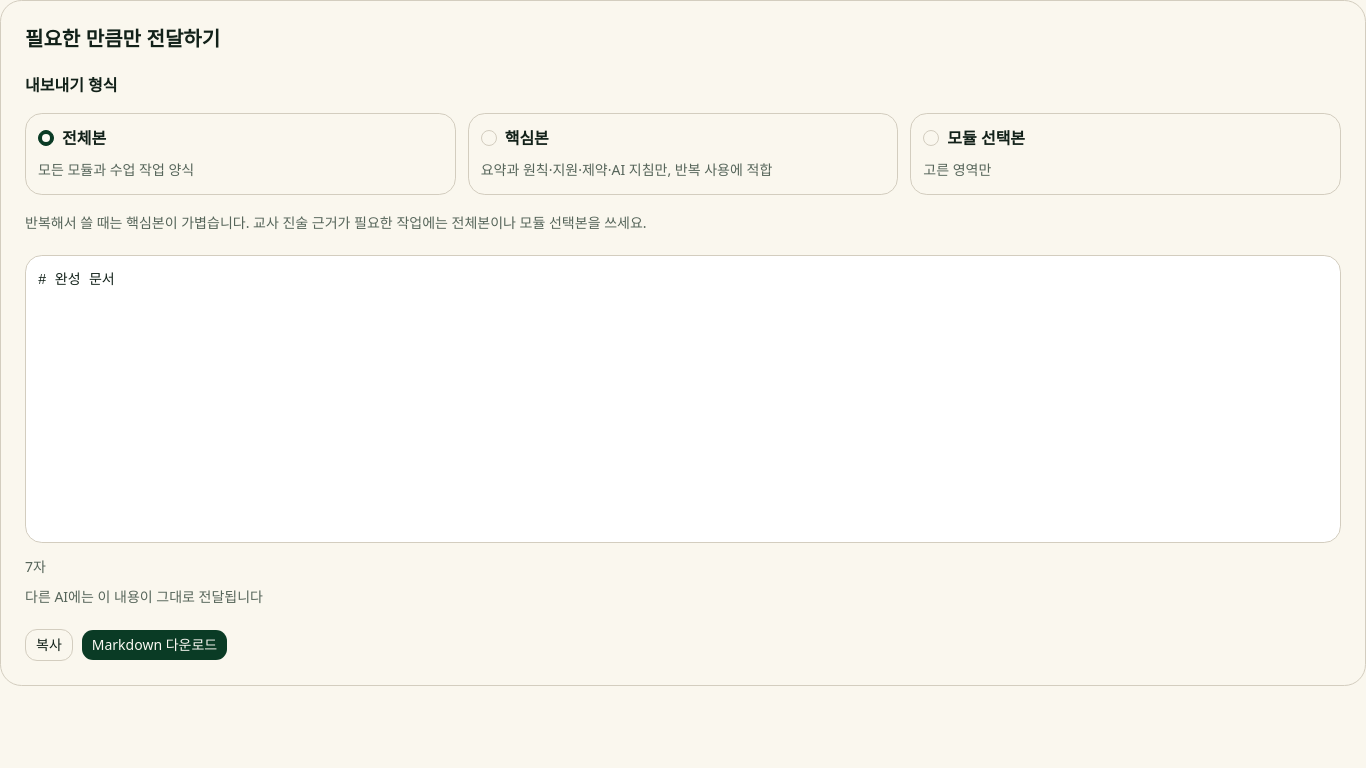
Scenario: skips failed panel exports and isolates record failure from success messages
This screenshot has width=1366, height=768.
What coordinates should you click on to do the following:
click the button "복사"
I would click on:
 (49, 645)
Its box is [25,629,73,661].
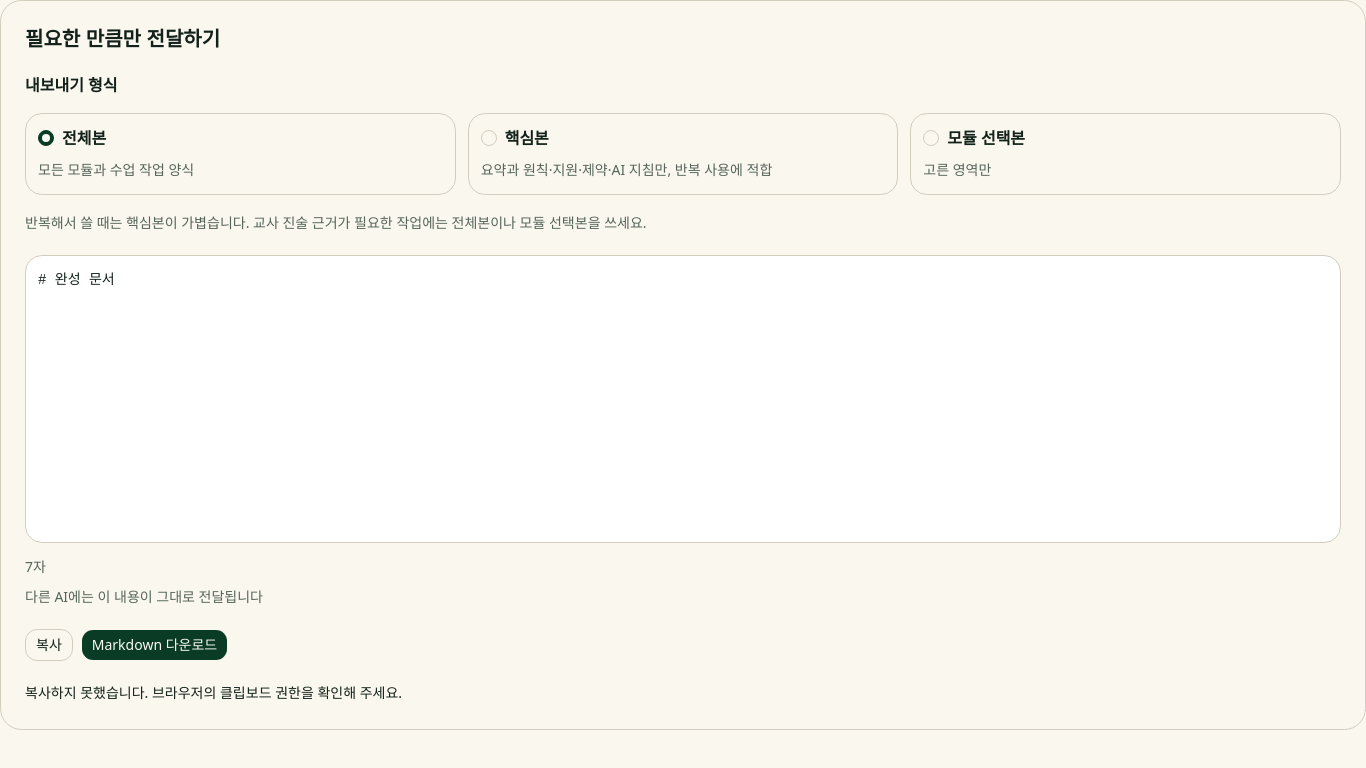
Expected: the text "복사하지 못했습니다. 브라우저의 클립보드 권한을 확인해 주세요." is shown, [25,683,402,702]
What coordinates should you click on to do the following:
click the button "Markdown 다운로드"
I would click on:
 (154, 645)
Its box is [81,629,228,661].
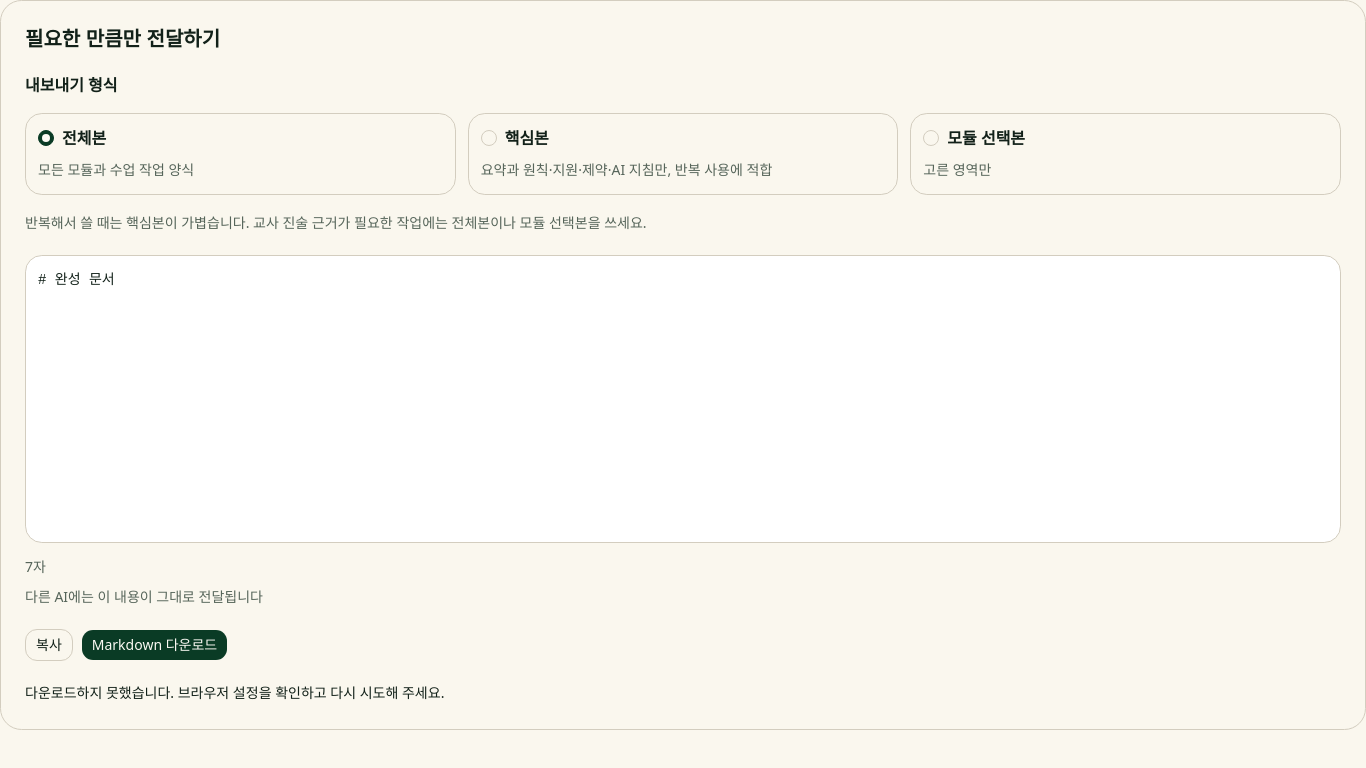
Expected: the message shows "다운로드하지 못했습니다", [25,683,444,702]
What coordinates should you click on to do the following:
click the button "복사"
I would click on:
 (49, 645)
Its box is [25,629,73,661].
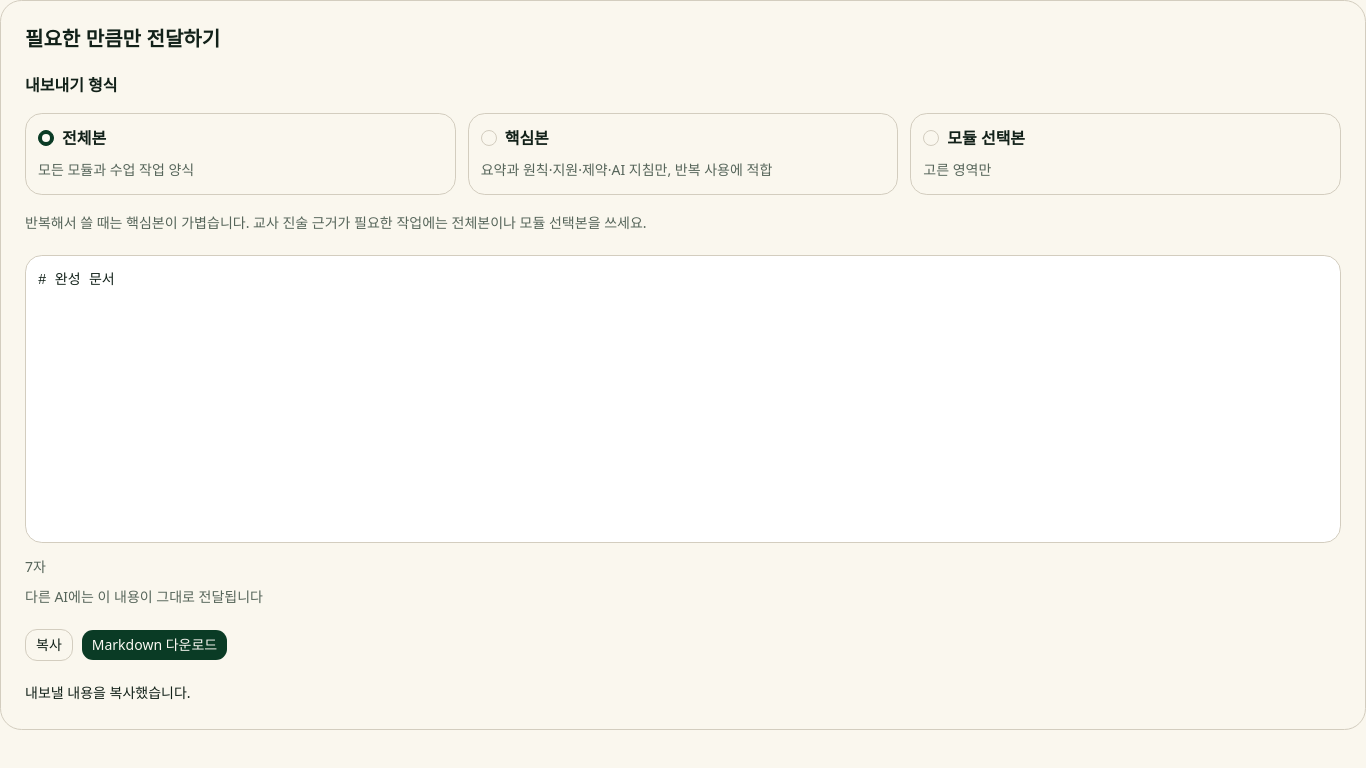
Expected: the text "내보낼 내용을 복사했습니다." is shown, [25,683,191,702]
What coordinates should you click on to do the following:
click the button "Markdown 다운로드"
I would click on:
 (154, 645)
Its box is [81,629,228,661].
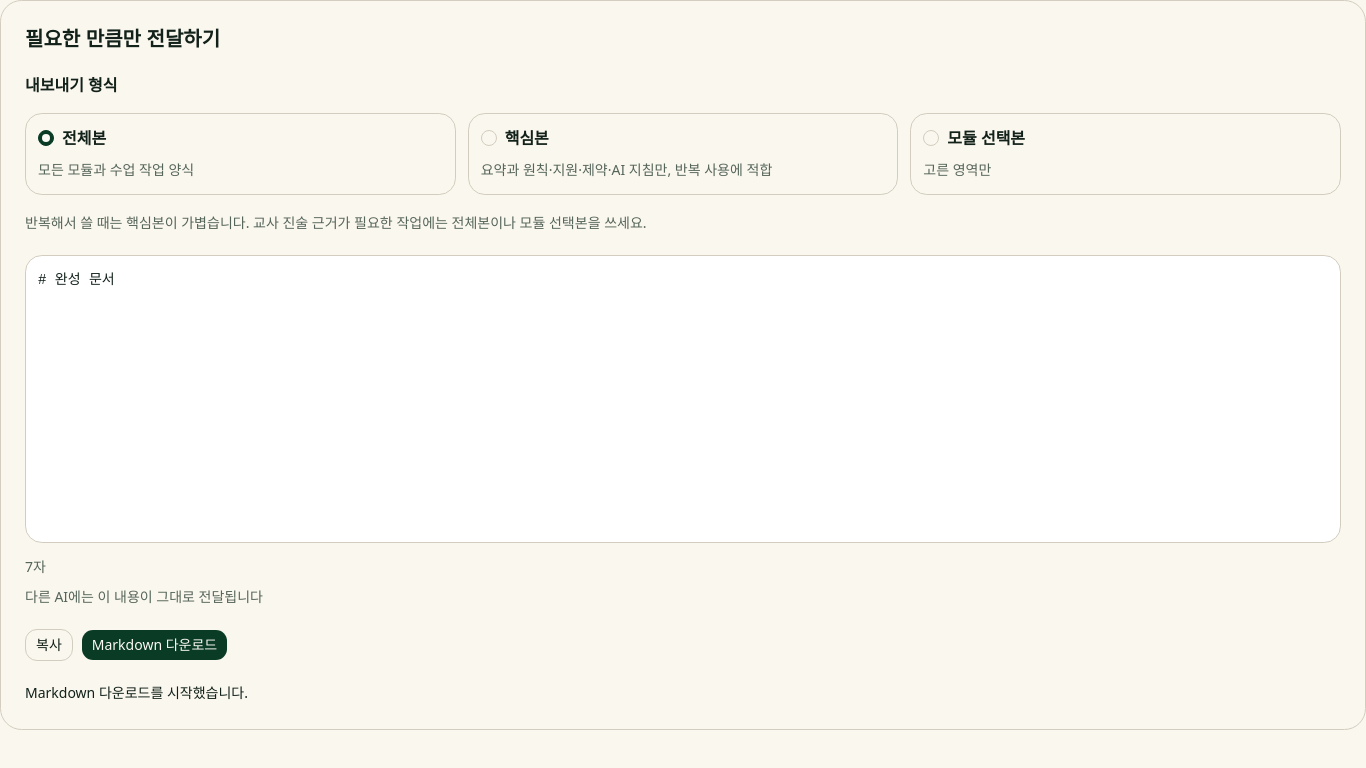
Expected: the message reads "Markdown 다운로드를 시작했습니다.", [25,683,248,702]
